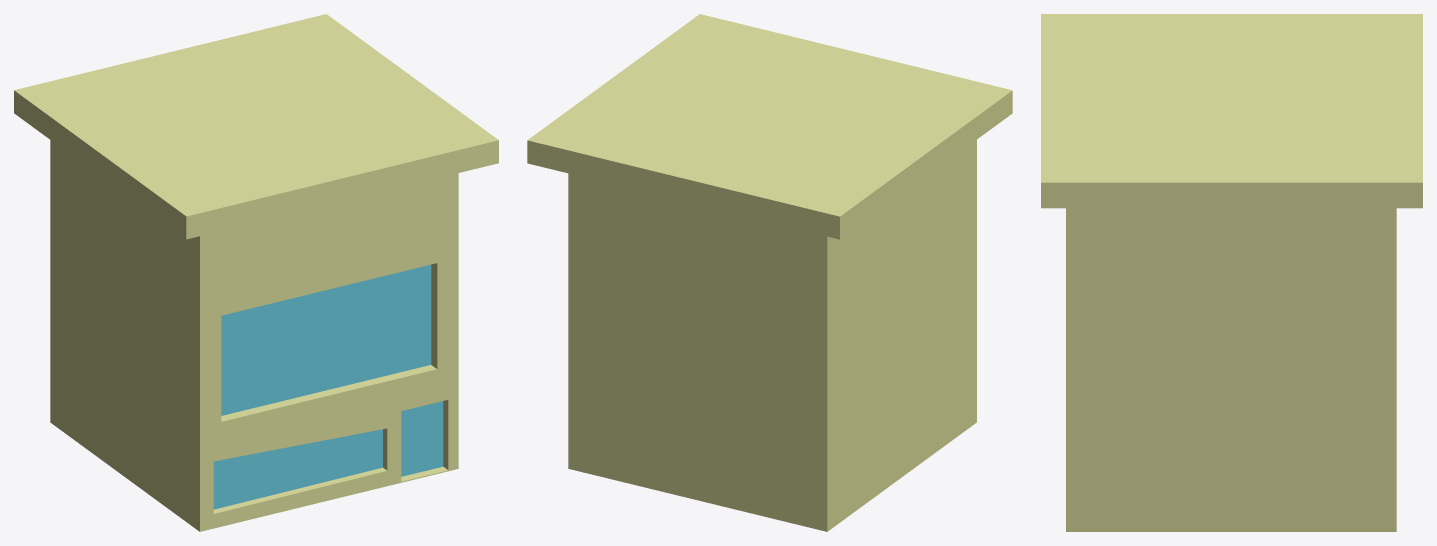
Rendered from wafla7.fbx.
3 views of the same model, side by side, from view 1: azimuth 30°, elevation 25°; view 2: azimuth 150°, elevation 25°; view 3: azimuth 270°, elevation 25° (orthographic). The views are drawn at different scales.
Parts seen in each view (by area): view 1: Cube, Cube.001, Cube.003, Cube.002; view 2: Cube; view 3: Cube.
Part boxes in pixels (x1,y1,x2,y2): Cube: (14, 14, 498, 531); Cube.001: (221, 264, 431, 415); Cube.003: (213, 429, 382, 509); Cube.002: (401, 401, 443, 476); Cube: (527, 14, 1012, 531); Cube: (1041, 14, 1422, 531).
Bounding box in the file's own units: 242 × 243 × 231.
